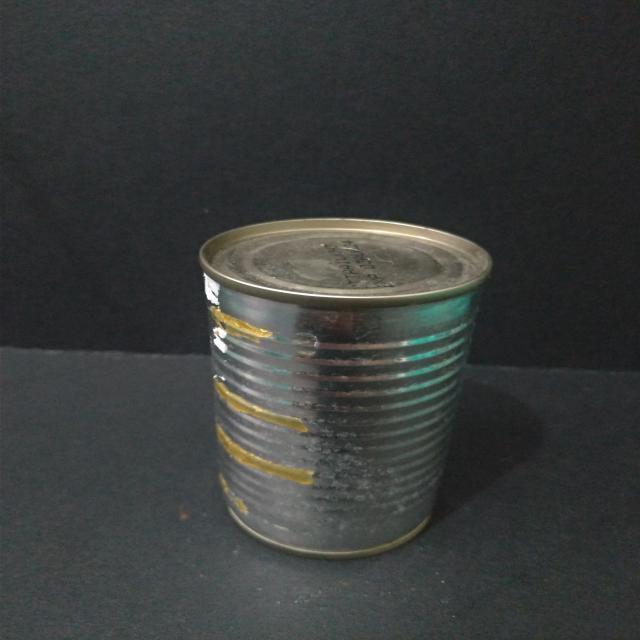metal-can: (193, 216, 497, 556)
